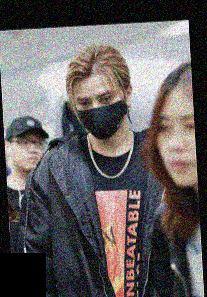with_mask: (75, 88, 128, 136)
without_mask: (155, 111, 196, 187), (10, 133, 46, 170)
